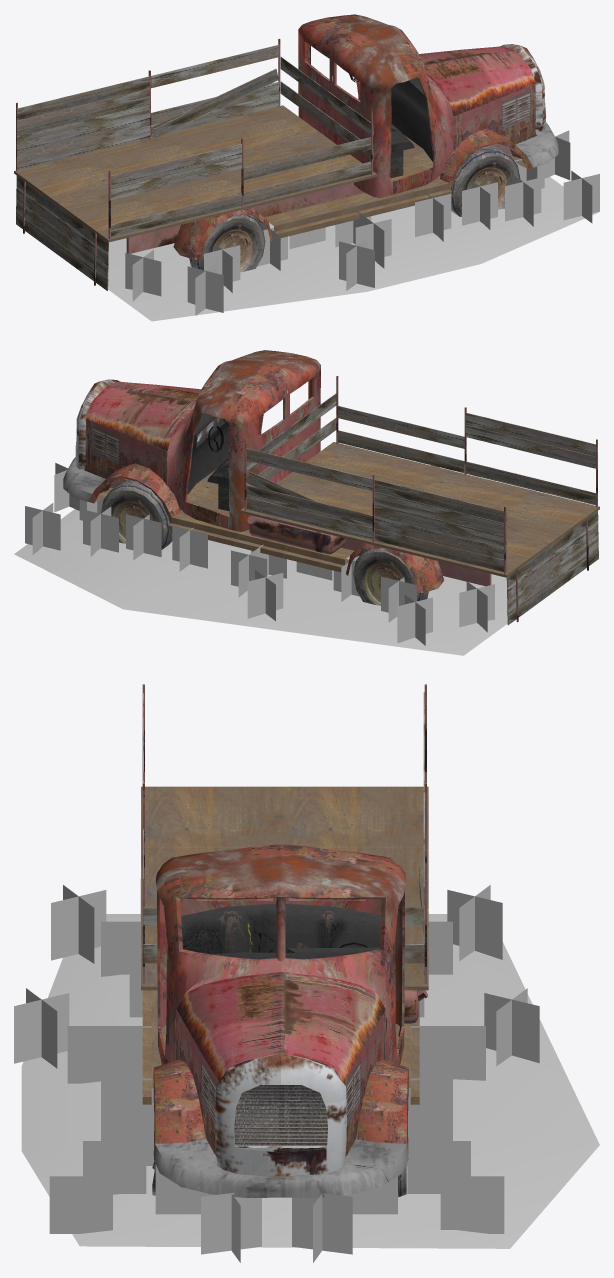
Rendered from Truck_dae.dae.
3 views of the same model, one above another, from view 1: azimuth 30°, elevation 25°; view 2: azimuth 150°, elevation 25°; view 3: azimuth 270°, elevation 25° (orthographic). The views are drawn at different scales.
Visible parts, largest first — view 1: Truck, TrckGR, Grass.14; view 2: Truck, TrckGR, Grass.14; view 3: Truck, Grass.14, TrckGR.
Part boxes in pixels (<box>): Truck: <box>14,14,558,290</box>; TrckGR: <box>108,177,598,321</box>; Grass.14: <box>125,130,599,315</box>; Truck: <box>63,350,599,625</box>; TrckGR: <box>14,509,507,655</box>; Grass.14: <box>25,463,494,645</box>; Truck: <box>141,684,428,1197</box>; Grass.14: <box>14,879,539,1262</box>; TrckGR: <box>21,914,599,1248</box>.
Bounding box in the file's own units: 68.42 × 23.36 × 46.09.
